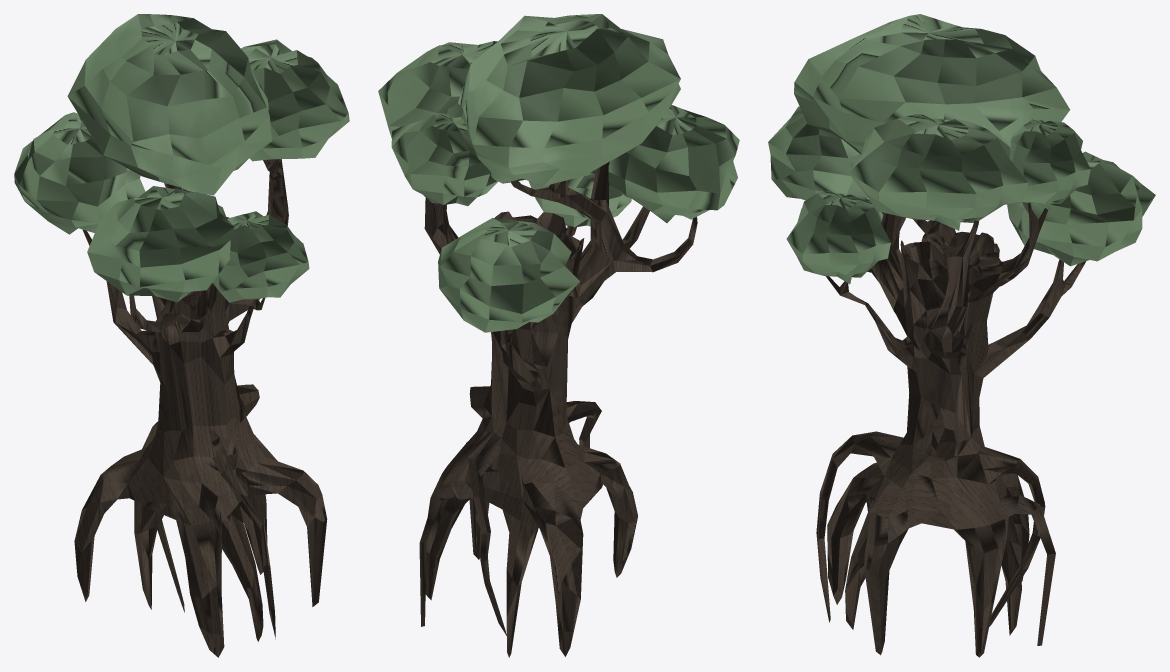
File: tree_01.FBX
The picture shows the model from 3 angles, left to right: view 1: azimuth 30°, elevation 25°; view 2: azimuth 150°, elevation 25°; view 3: azimuth 270°, elevation 25°; orthographic projection.
Visible parts, largest first — view 1: Cube.002; view 2: Cube.002; view 3: Cube.002.
Part boxes in pixels (x1,y1,x2,y2): Cube.002: (14, 14, 349, 657); Cube.002: (378, 14, 739, 657); Cube.002: (768, 14, 1155, 657).
Bounding box in the file's own units: 227 × 461 × 269.
Materials: 1 (1 with a texture image).
